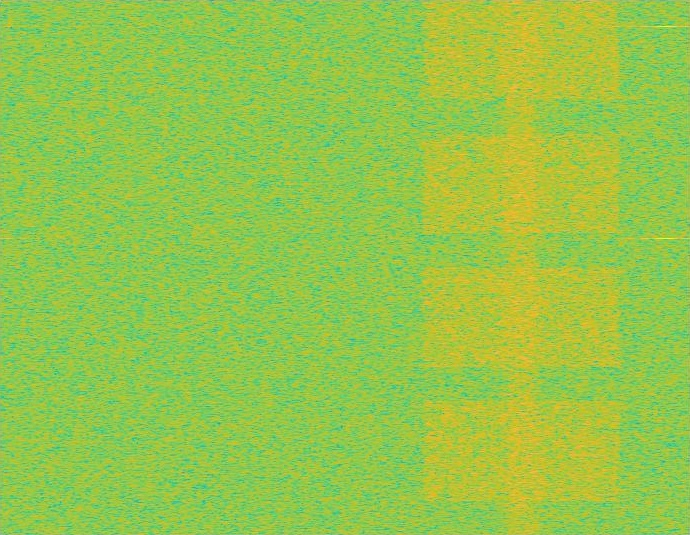5G: (418, 0, 625, 534)
DSSS: (498, 0, 545, 534)
Radar: (659, 0, 673, 534)
